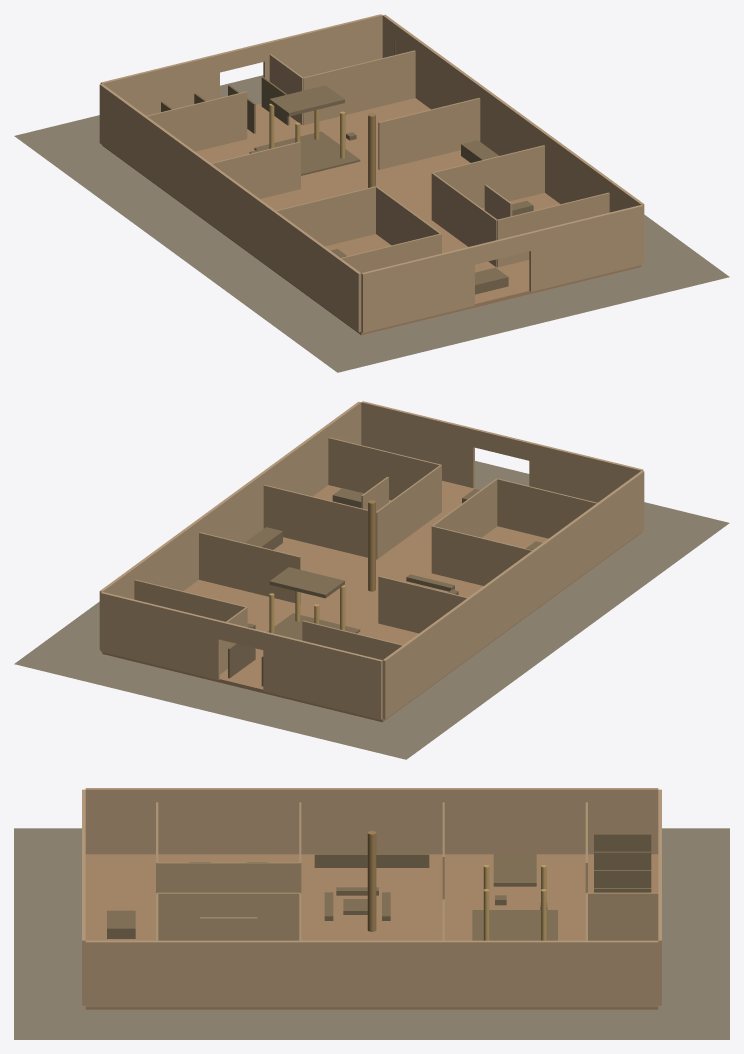
Rendered from phongtrungbay_test.glb.
The picture shows the model from 3 angles, top to bottom: view 1: azimuth 30°, elevation 25°; view 2: azimuth 150°, elevation 25°; view 3: azimuth 270°, elevation 25°; orthographic projection. The views are drawn at different scales.
Visible parts, largest first — view 1: Nen_Dat, Tuong_Tay, San_TonCao, Tuong_Dong, Tuong_Nam_Phai, Tuong_Nam_Trai, VachNgan_Khu3-4_Phai, Tuong_Bac_Phai, VachNgan_Khu4-5_Phai, Tuong_Bac_Trai, VachNgan_Khu2-3_Phai, VachNgan_Khu4-5_Trai (+15 smaller); view 2: Nen_Dat, Tuong_Tay, San_TonCao, Tuong_Dong, Tuong_Bac_Trai, Tuong_Bac_Phai, Tuong_Nam_Phai, VachNgan_Khu2-3_Phai, VachNgan_Khu3-4_Phai, Tuong_Nam_Trai, VachNgan_Khu1-2_Phai, VachNgan_Khu2-3_Trai (+13 smaller); view 3: Nen_Dat, Tuong_Dong, Tuong_Tay, San_TonCao, HanhLang_VachPhai, HanhLang_VachTrai, VachNgan_Khu5_GiuaAnhLuuNiem, Buc_NhacCu_Trai, San_NhaMo, Buc_ThuyenKagor, PhongNgu_ConGaiUt_Vach, VachAnh_Gallery_1 (+6 smaller).
Boxes of the visible parts, bbox=[...] form: Nen_Dat: bbox=[14, 75, 729, 372]; Tuong_Tay: bbox=[99, 83, 361, 332]; San_TonCao: bbox=[102, 98, 641, 335]; Tuong_Dong: bbox=[382, 14, 644, 262]; Tuong_Nam_Phai: bbox=[529, 205, 643, 291]; Tuong_Nam_Trai: bbox=[361, 246, 474, 332]; VachNgan_Khu3-4_Phai: bbox=[378, 98, 480, 169]; Tuong_Bac_Phai: bbox=[263, 14, 382, 80]; VachNgan_Khu4-5_Phai: bbox=[303, 50, 415, 125]; Tuong_Bac_Trai: bbox=[100, 54, 219, 115]; VachNgan_Khu2-3_Phai: bbox=[432, 145, 544, 207]; VachNgan_Khu4-5_Trai: bbox=[146, 91, 247, 151]; Nen_Dat: bbox=[14, 461, 729, 759]; Tuong_Tay: bbox=[382, 470, 644, 719]; San_TonCao: bbox=[102, 480, 641, 722]; Tuong_Dong: bbox=[99, 401, 361, 649]; Tuong_Bac_Trai: bbox=[263, 631, 382, 719]; Tuong_Bac_Phai: bbox=[100, 592, 219, 680]; Tuong_Nam_Phai: bbox=[361, 401, 474, 488]; VachNgan_Khu2-3_Phai: bbox=[263, 485, 376, 559]; VachNgan_Khu3-4_Phai: bbox=[199, 532, 300, 603]; Tuong_Nam_Trai: bbox=[529, 442, 643, 502]; VachNgan_Khu1-2_Phai: bbox=[328, 437, 441, 500]; VachNgan_Khu2-3_Trai: bbox=[432, 526, 532, 585]; Nen_Dat: bbox=[14, 828, 729, 1039]; Tuong_Dong: bbox=[85, 940, 658, 1007]; Tuong_Tay: bbox=[85, 788, 658, 854]; San_TonCao: bbox=[85, 854, 658, 1009]; HanhLang_VachPhai: bbox=[157, 892, 299, 940]; HanhLang_VachTrai: bbox=[157, 862, 300, 892]; VachNgan_Khu5_GiuaAnhLuuNiem: bbox=[587, 892, 658, 940]; Buc_NhacCu_Trai: bbox=[314, 846, 429, 867]; San_NhaMo: bbox=[472, 910, 557, 940]; Buc_ThuyenKagor: bbox=[493, 852, 536, 886]; PhongNgu_ConGaiUt_Vach: bbox=[200, 917, 257, 940]; VachAnh_Gallery_1: bbox=[594, 833, 651, 851].
Size of the model in its own units: 35 by 7.81 by 50.
